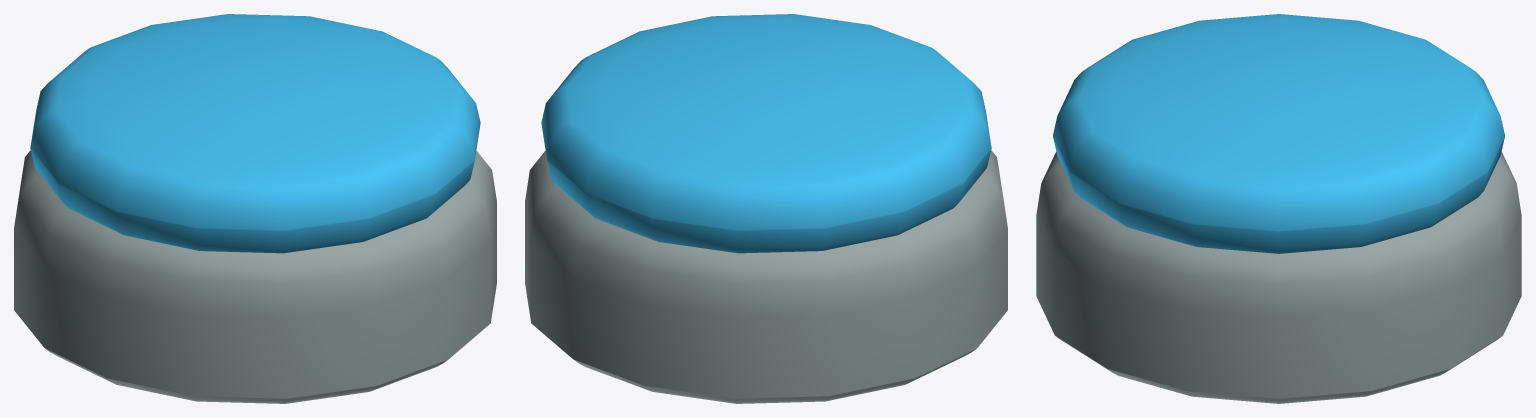
Rendered from button_blue.fbx.
3 renders of one model, left to right at view 1: azimuth 30°, elevation 25°; view 2: azimuth 150°, elevation 25°; view 3: azimuth 270°, elevation 25°, orthographic.
Parts seen in each view (by area): view 1: ChamferCyl004, Gengon004; view 2: ChamferCyl004, Gengon004; view 3: ChamferCyl004, Gengon004.
Part boxes in pixels (<box>): ChamferCyl004: <box>30,14,480,253</box>; Gengon004: <box>14,150,496,403</box>; ChamferCyl004: <box>541,14,991,253</box>; Gengon004: <box>525,150,1007,403</box>; ChamferCyl004: <box>1053,14,1504,253</box>; Gengon004: <box>1036,151,1521,403</box>.
Bounding box in the file's own units: 11.81 × 6.15 × 11.81.
